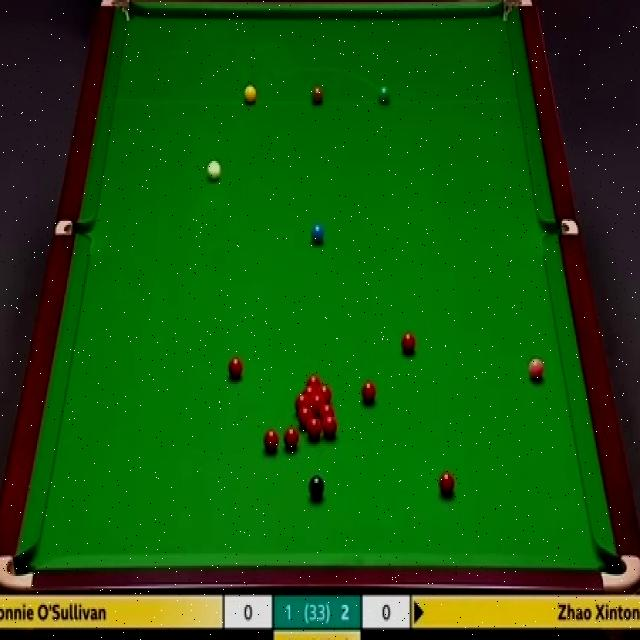black-ball: (308, 476, 325, 500)
blue-ball: (310, 222, 325, 246)
brown-ball: (311, 86, 325, 105)
green-ball: (378, 84, 390, 104)
pink-ball: (527, 356, 545, 384)
red-ball: (439, 471, 456, 497), (400, 333, 417, 358), (360, 380, 376, 406), (227, 356, 243, 381), (266, 426, 282, 450), (306, 416, 322, 439), (322, 414, 337, 438), (284, 428, 298, 452), (297, 407, 313, 426), (316, 385, 332, 401), (318, 404, 335, 418), (310, 394, 325, 409), (294, 394, 310, 406), (306, 374, 322, 385), (302, 385, 319, 394)
white-ball: (206, 160, 220, 182)
yellow-ball: (243, 83, 256, 106)
